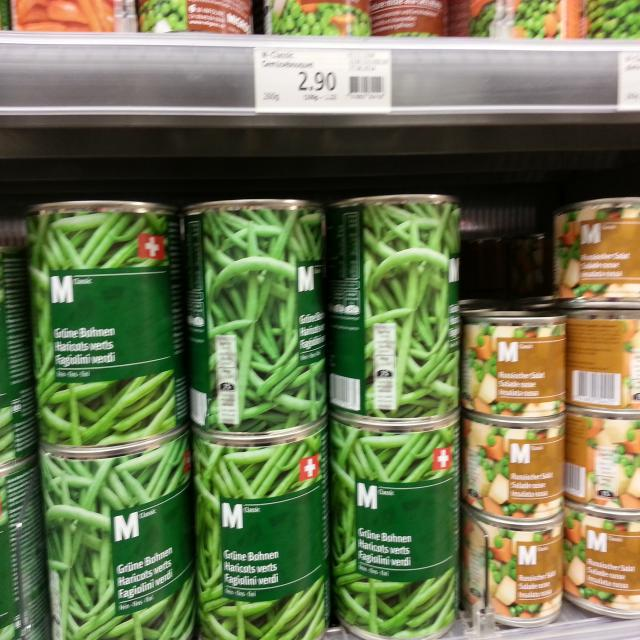Canned: (22, 196, 190, 459), (185, 195, 330, 443), (35, 425, 192, 640), (333, 400, 466, 640), (327, 193, 463, 426), (191, 424, 328, 640), (464, 500, 565, 627), (460, 306, 570, 421), (460, 410, 569, 524), (556, 199, 640, 313), (563, 304, 640, 425), (566, 498, 640, 621), (572, 400, 640, 527)
